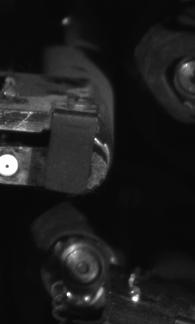fiber: (1, 148, 23, 181)
